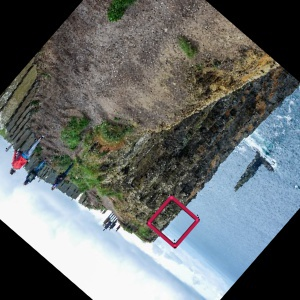square: (146, 195, 201, 251)
